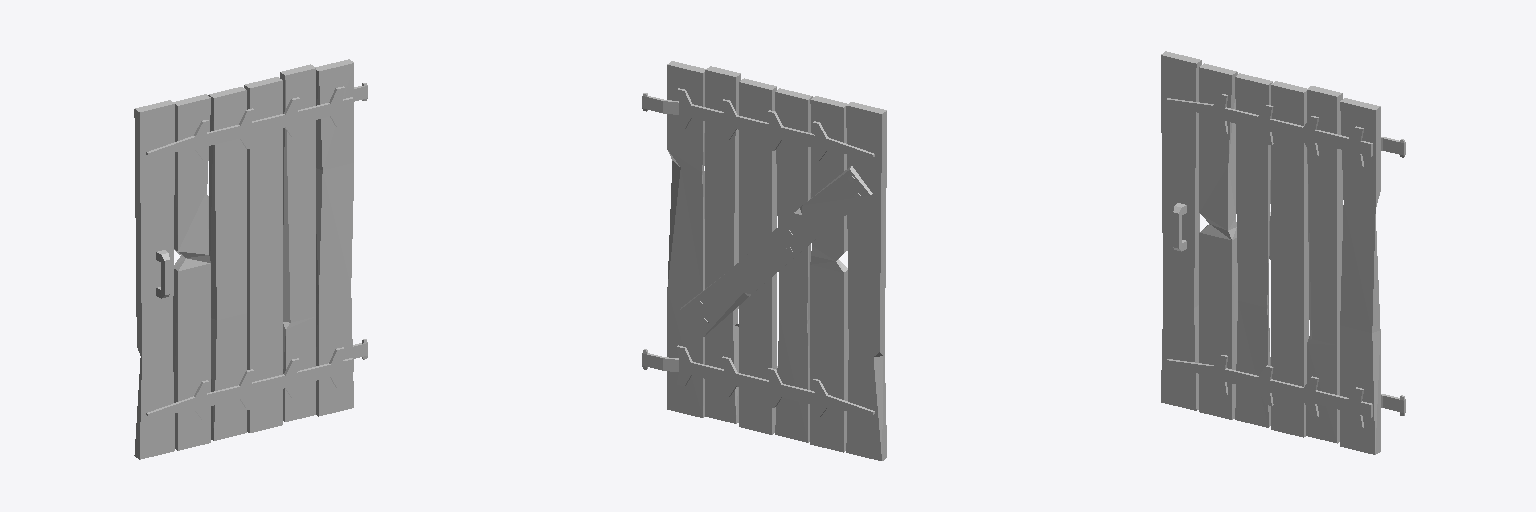
The model's file is Door.obj.
3 views of the same model, side by side, from view 1: azimuth 30°, elevation 25°; view 2: azimuth 150°, elevation 25°; view 3: azimuth 330°, elevation 25° (orthographic).
Parts seen in each view (by area): view 1: Door; view 2: Door; view 3: Door.
Boxes of the visible parts, box(x1,y1,x2,y2) form: Door: box(134, 59, 367, 459); Door: box(642, 61, 886, 460); Door: box(1161, 51, 1405, 454).
Size of the model in its own units: 1.42 by 2.01 by 0.1622.